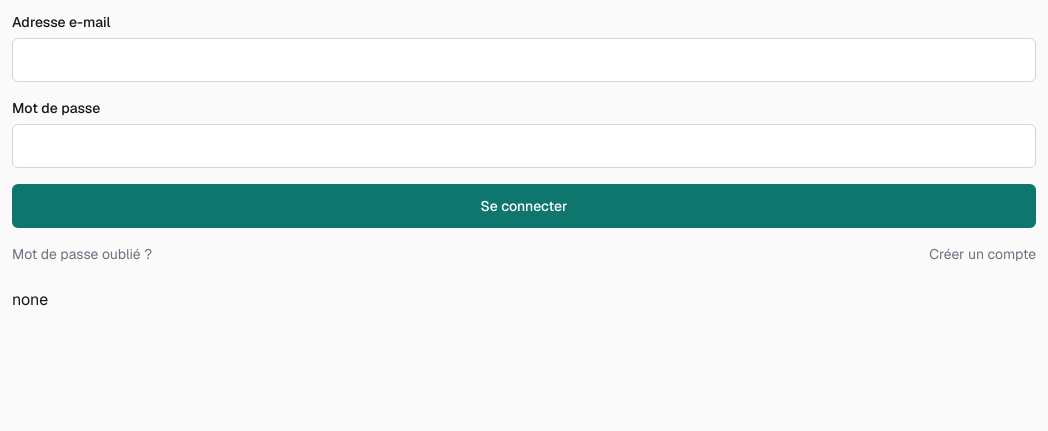
it: LoginForm › révèle le champ du code quand le compte exige la double authentification
Step 1. Type "awa@example.test" into the field labelled "Adresse e-mail" → (524, 60), box [12,38,1036,82]
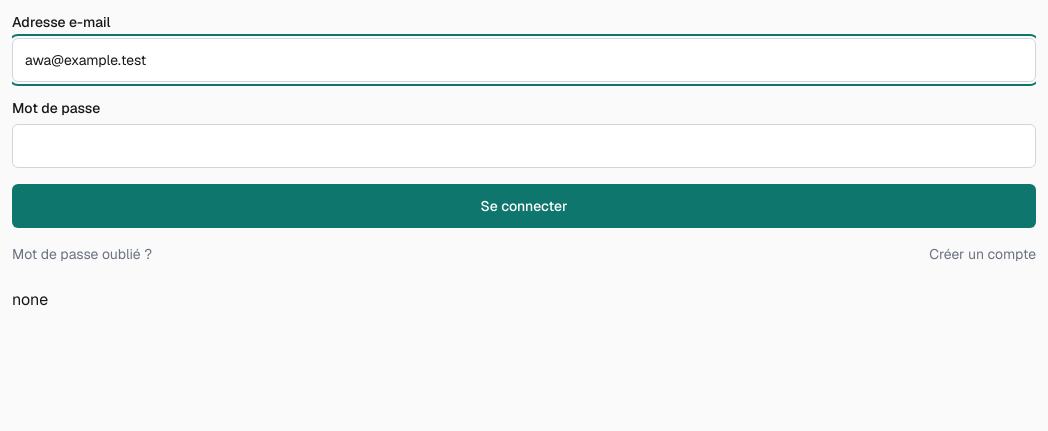
Step 2. Type "password" into the password field labelled "Mot de passe" → (524, 146), box [12,124,1036,168]
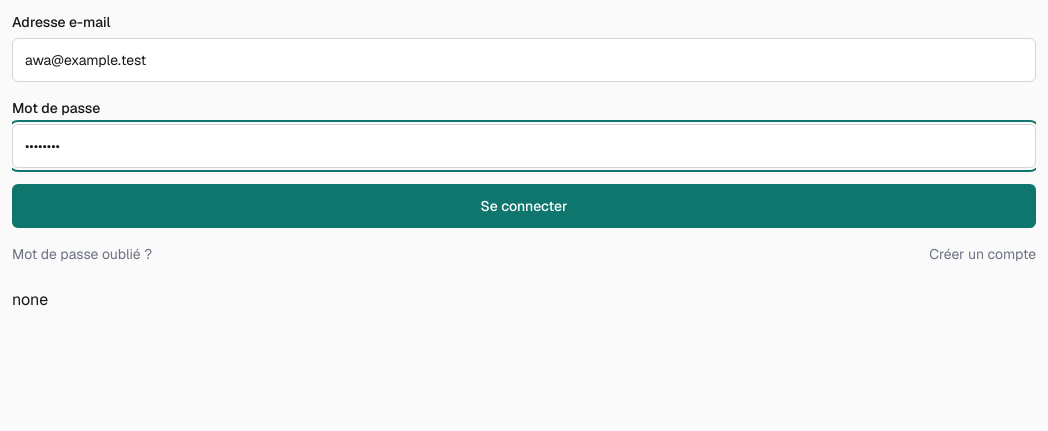
Step 3. Click the button "Se connecter" → (524, 206), box [12,184,1036,228]
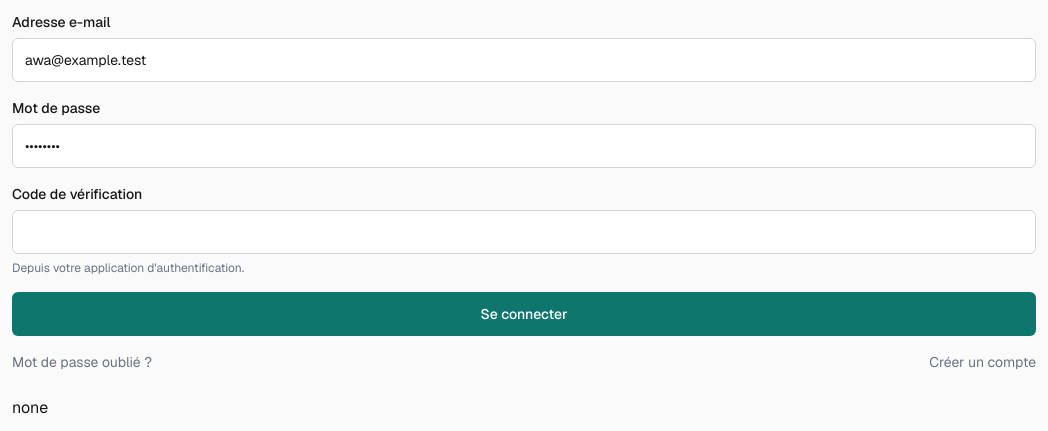
expect the field labelled "Code de vérification" is shown: met, box [12,210,1036,254]
